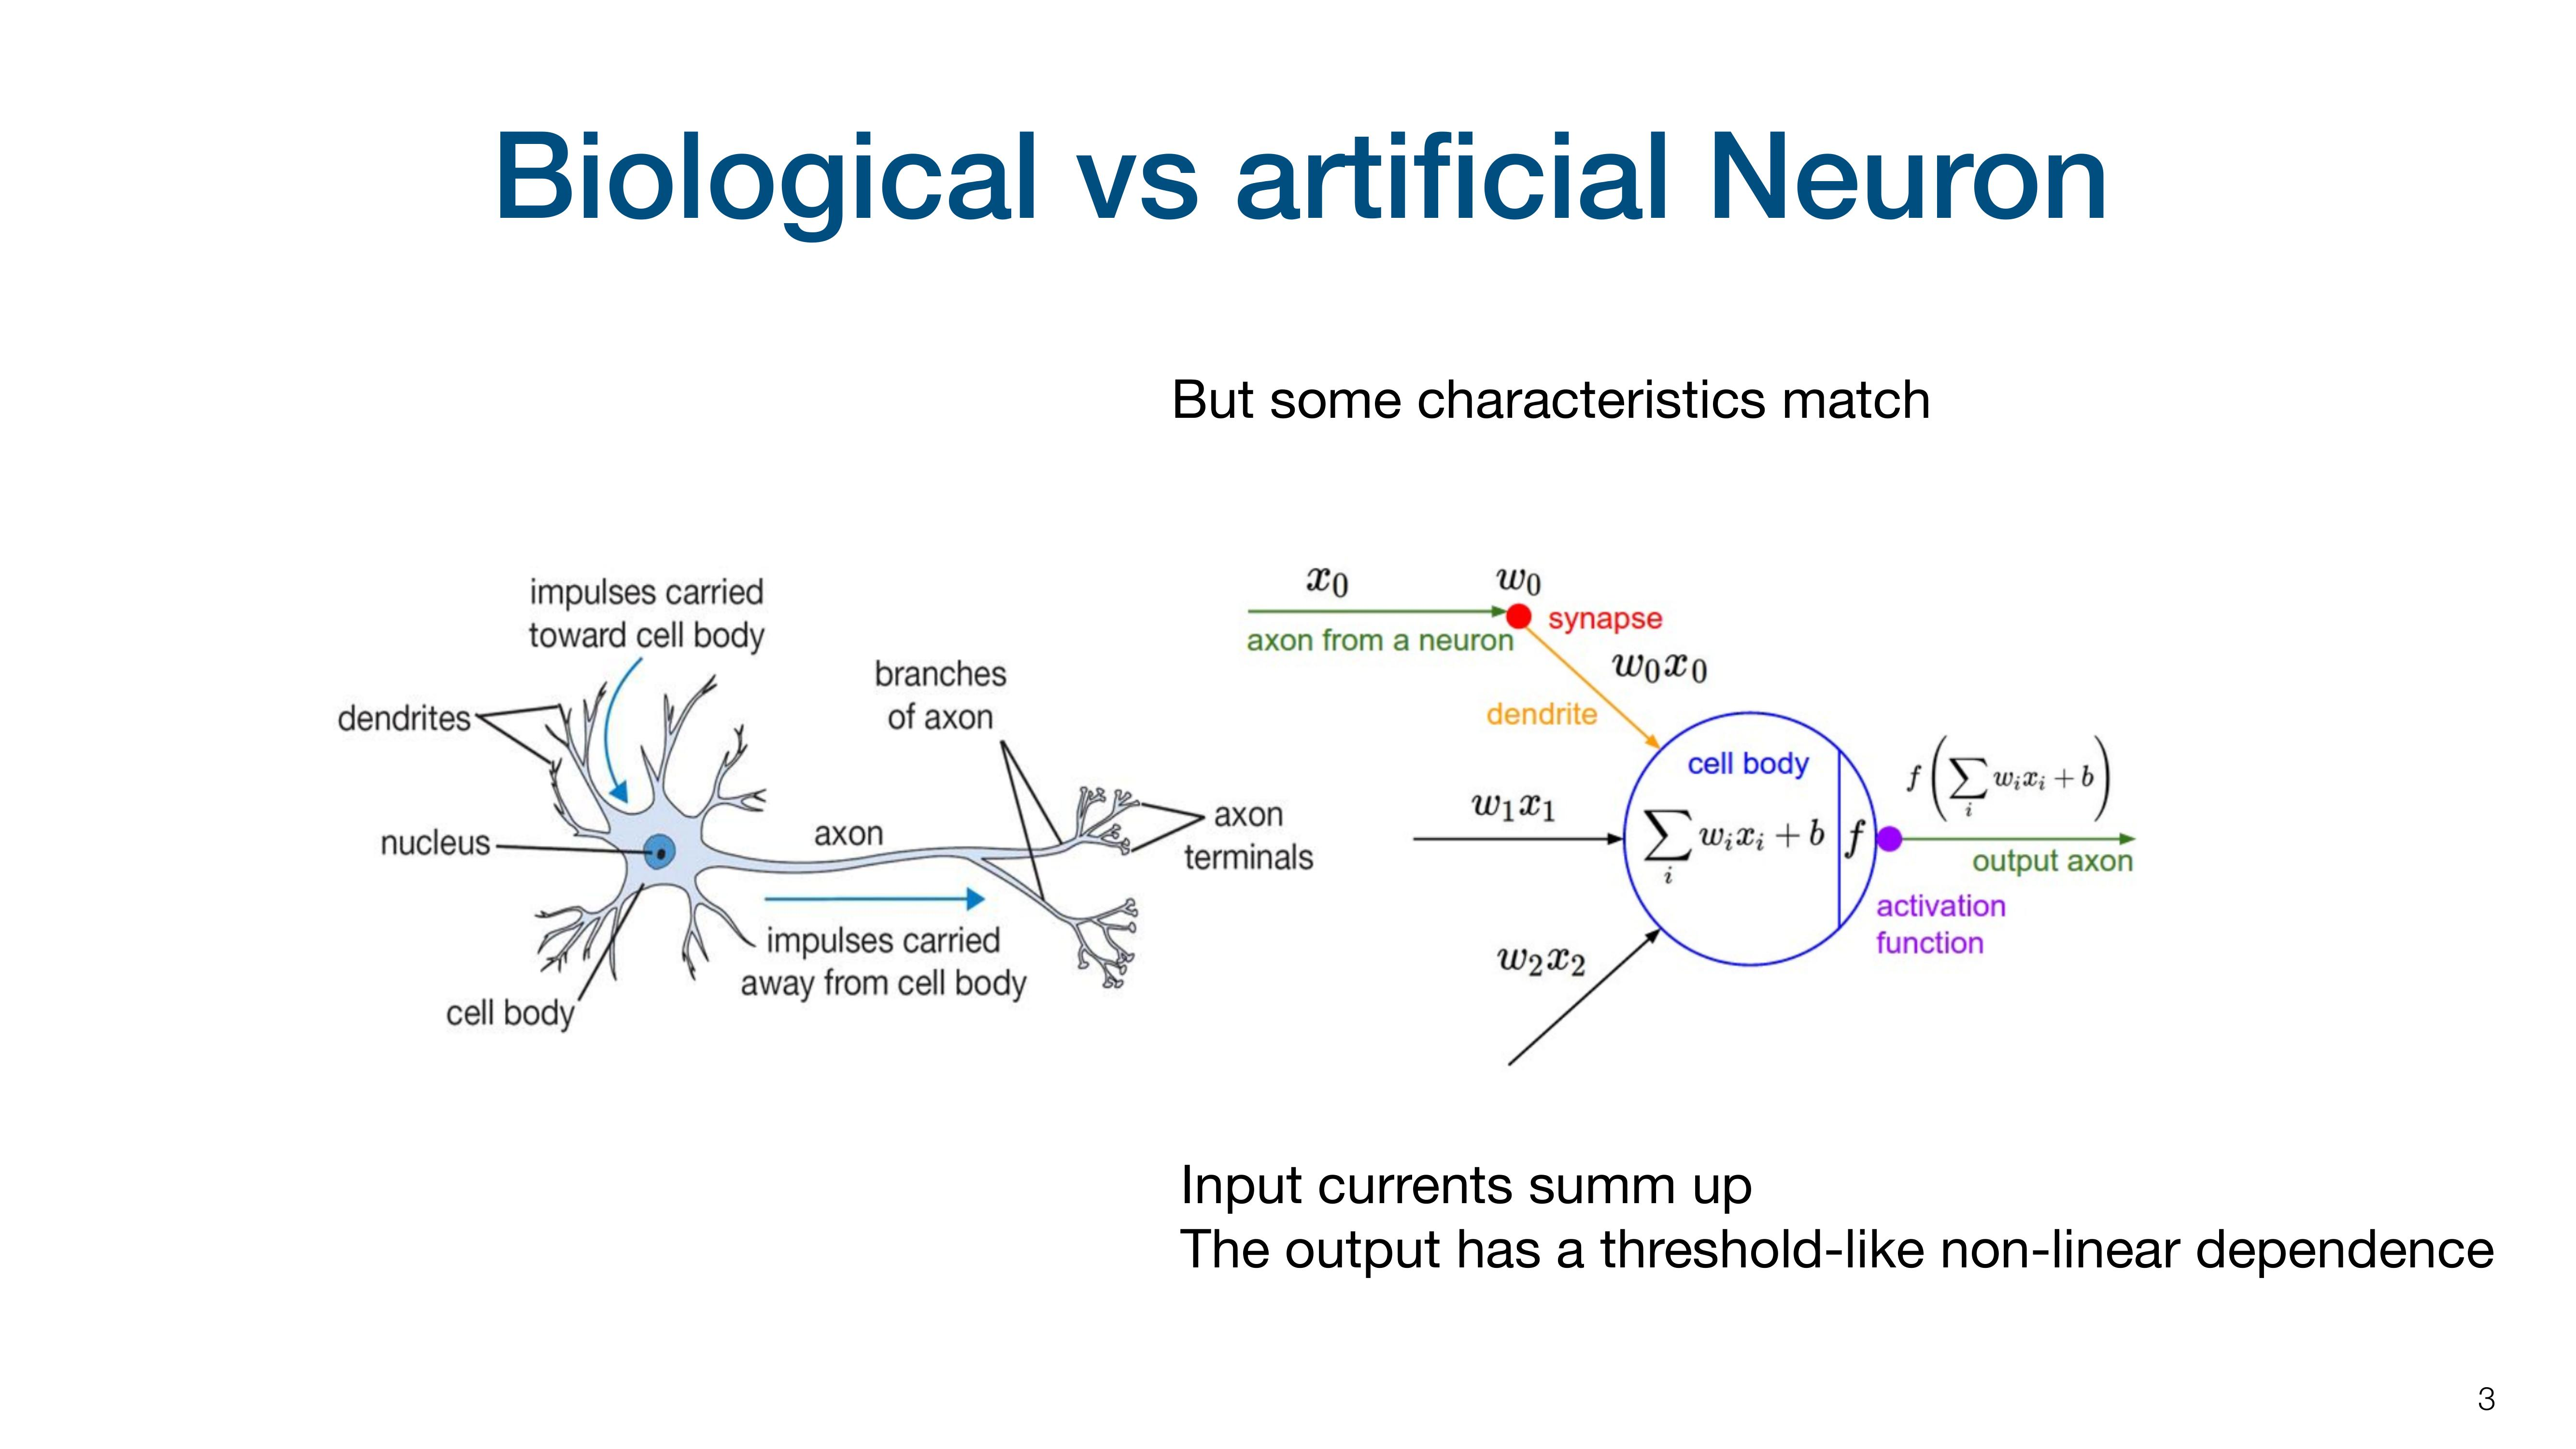Title: (483, 113, 2118, 249)
